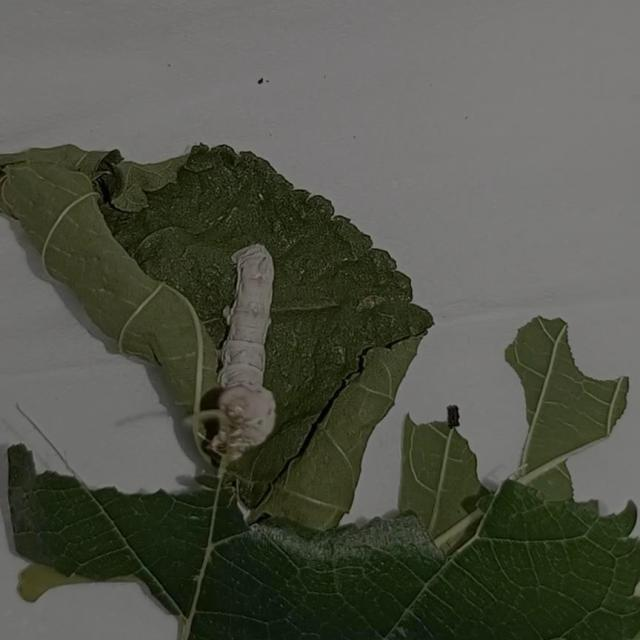Healthy: (192, 225, 308, 479)
